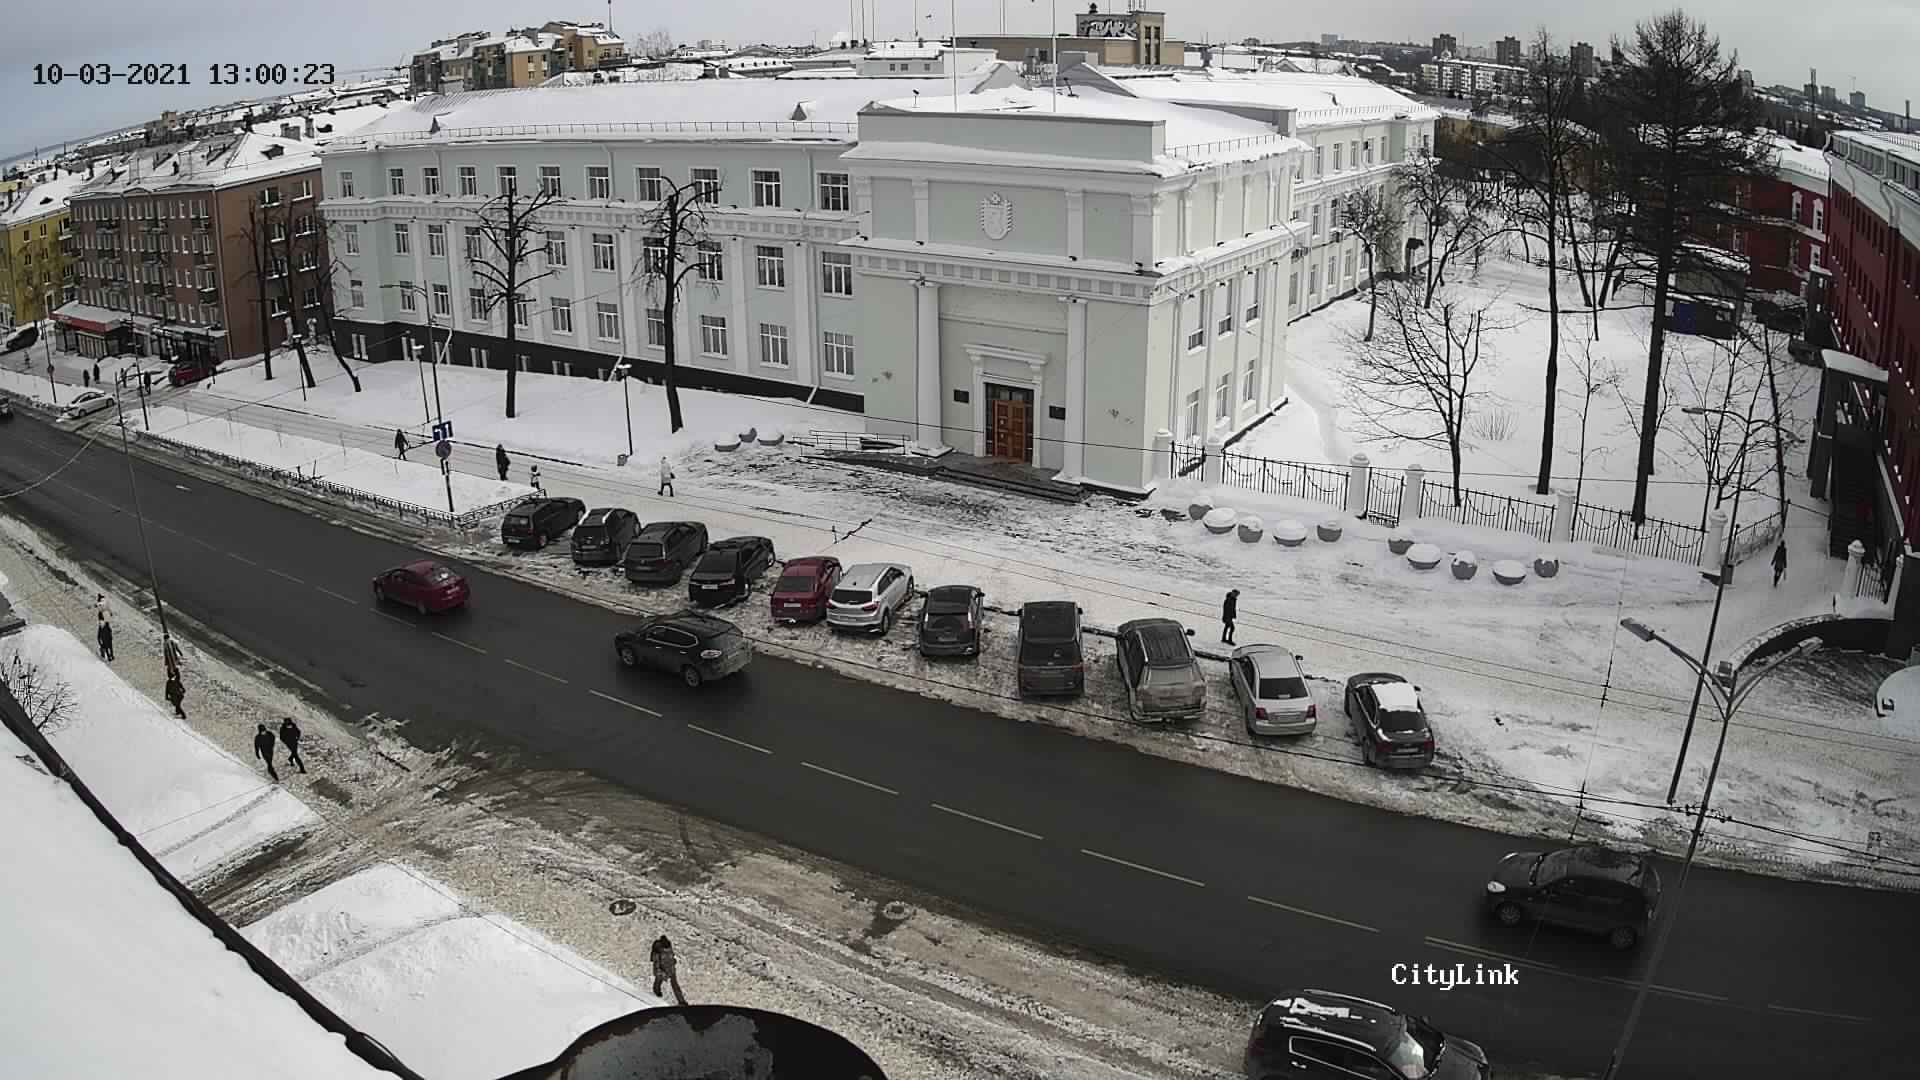car: (1098, 611, 1211, 736), (1335, 663, 1441, 775), (1218, 638, 1319, 746), (1007, 593, 1091, 707), (814, 553, 916, 638), (909, 572, 989, 669), (481, 487, 585, 560), (683, 531, 775, 607), (622, 521, 713, 593), (767, 545, 837, 626), (564, 497, 636, 576)
